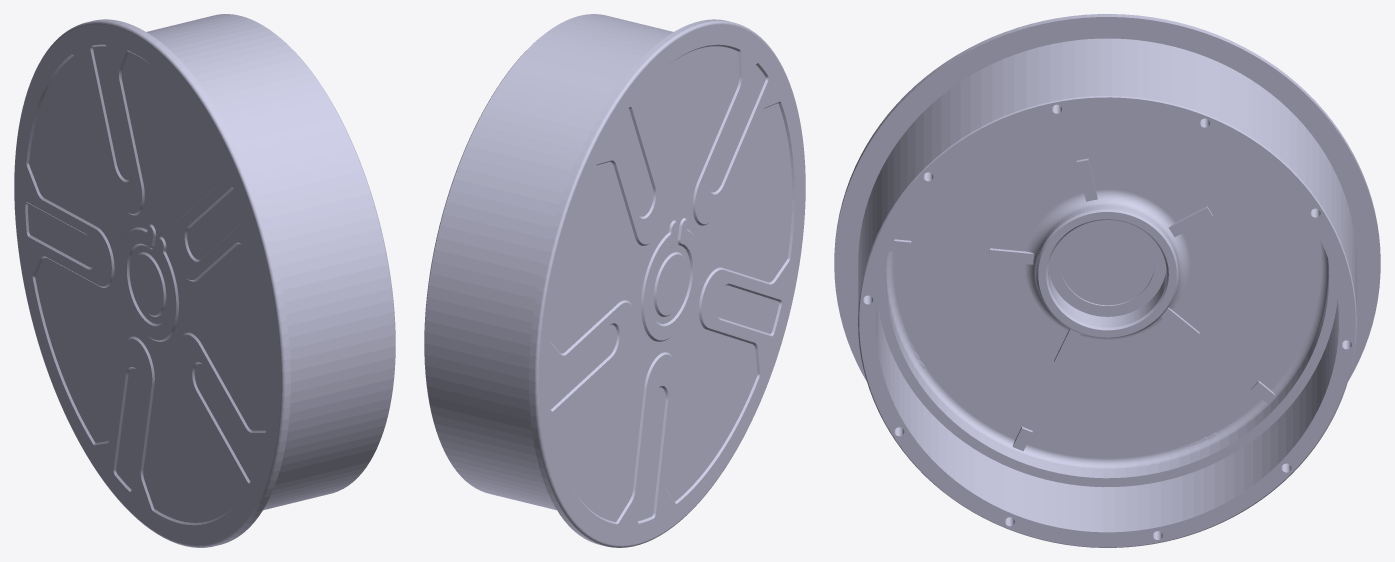
The model's file is botwheel_housing002.dae.
3 renders of one model, left to right at view 1: azimuth 30°, elevation 25°; view 2: azimuth 150°, elevation 25°; view 3: azimuth 270°, elevation 25°, orthographic.
Visible parts, largest first — view 1: node0; view 2: node0; view 3: node0.
Boxes of the visible parts, left/top/right/bottom form: node0: left=14, top=14, right=395, bottom=547; node0: left=424, top=14, right=805, bottom=547; node0: left=834, top=14, right=1380, bottom=547.
Bounding box in the file's own units: 0.037 × 0.138 × 0.138.
